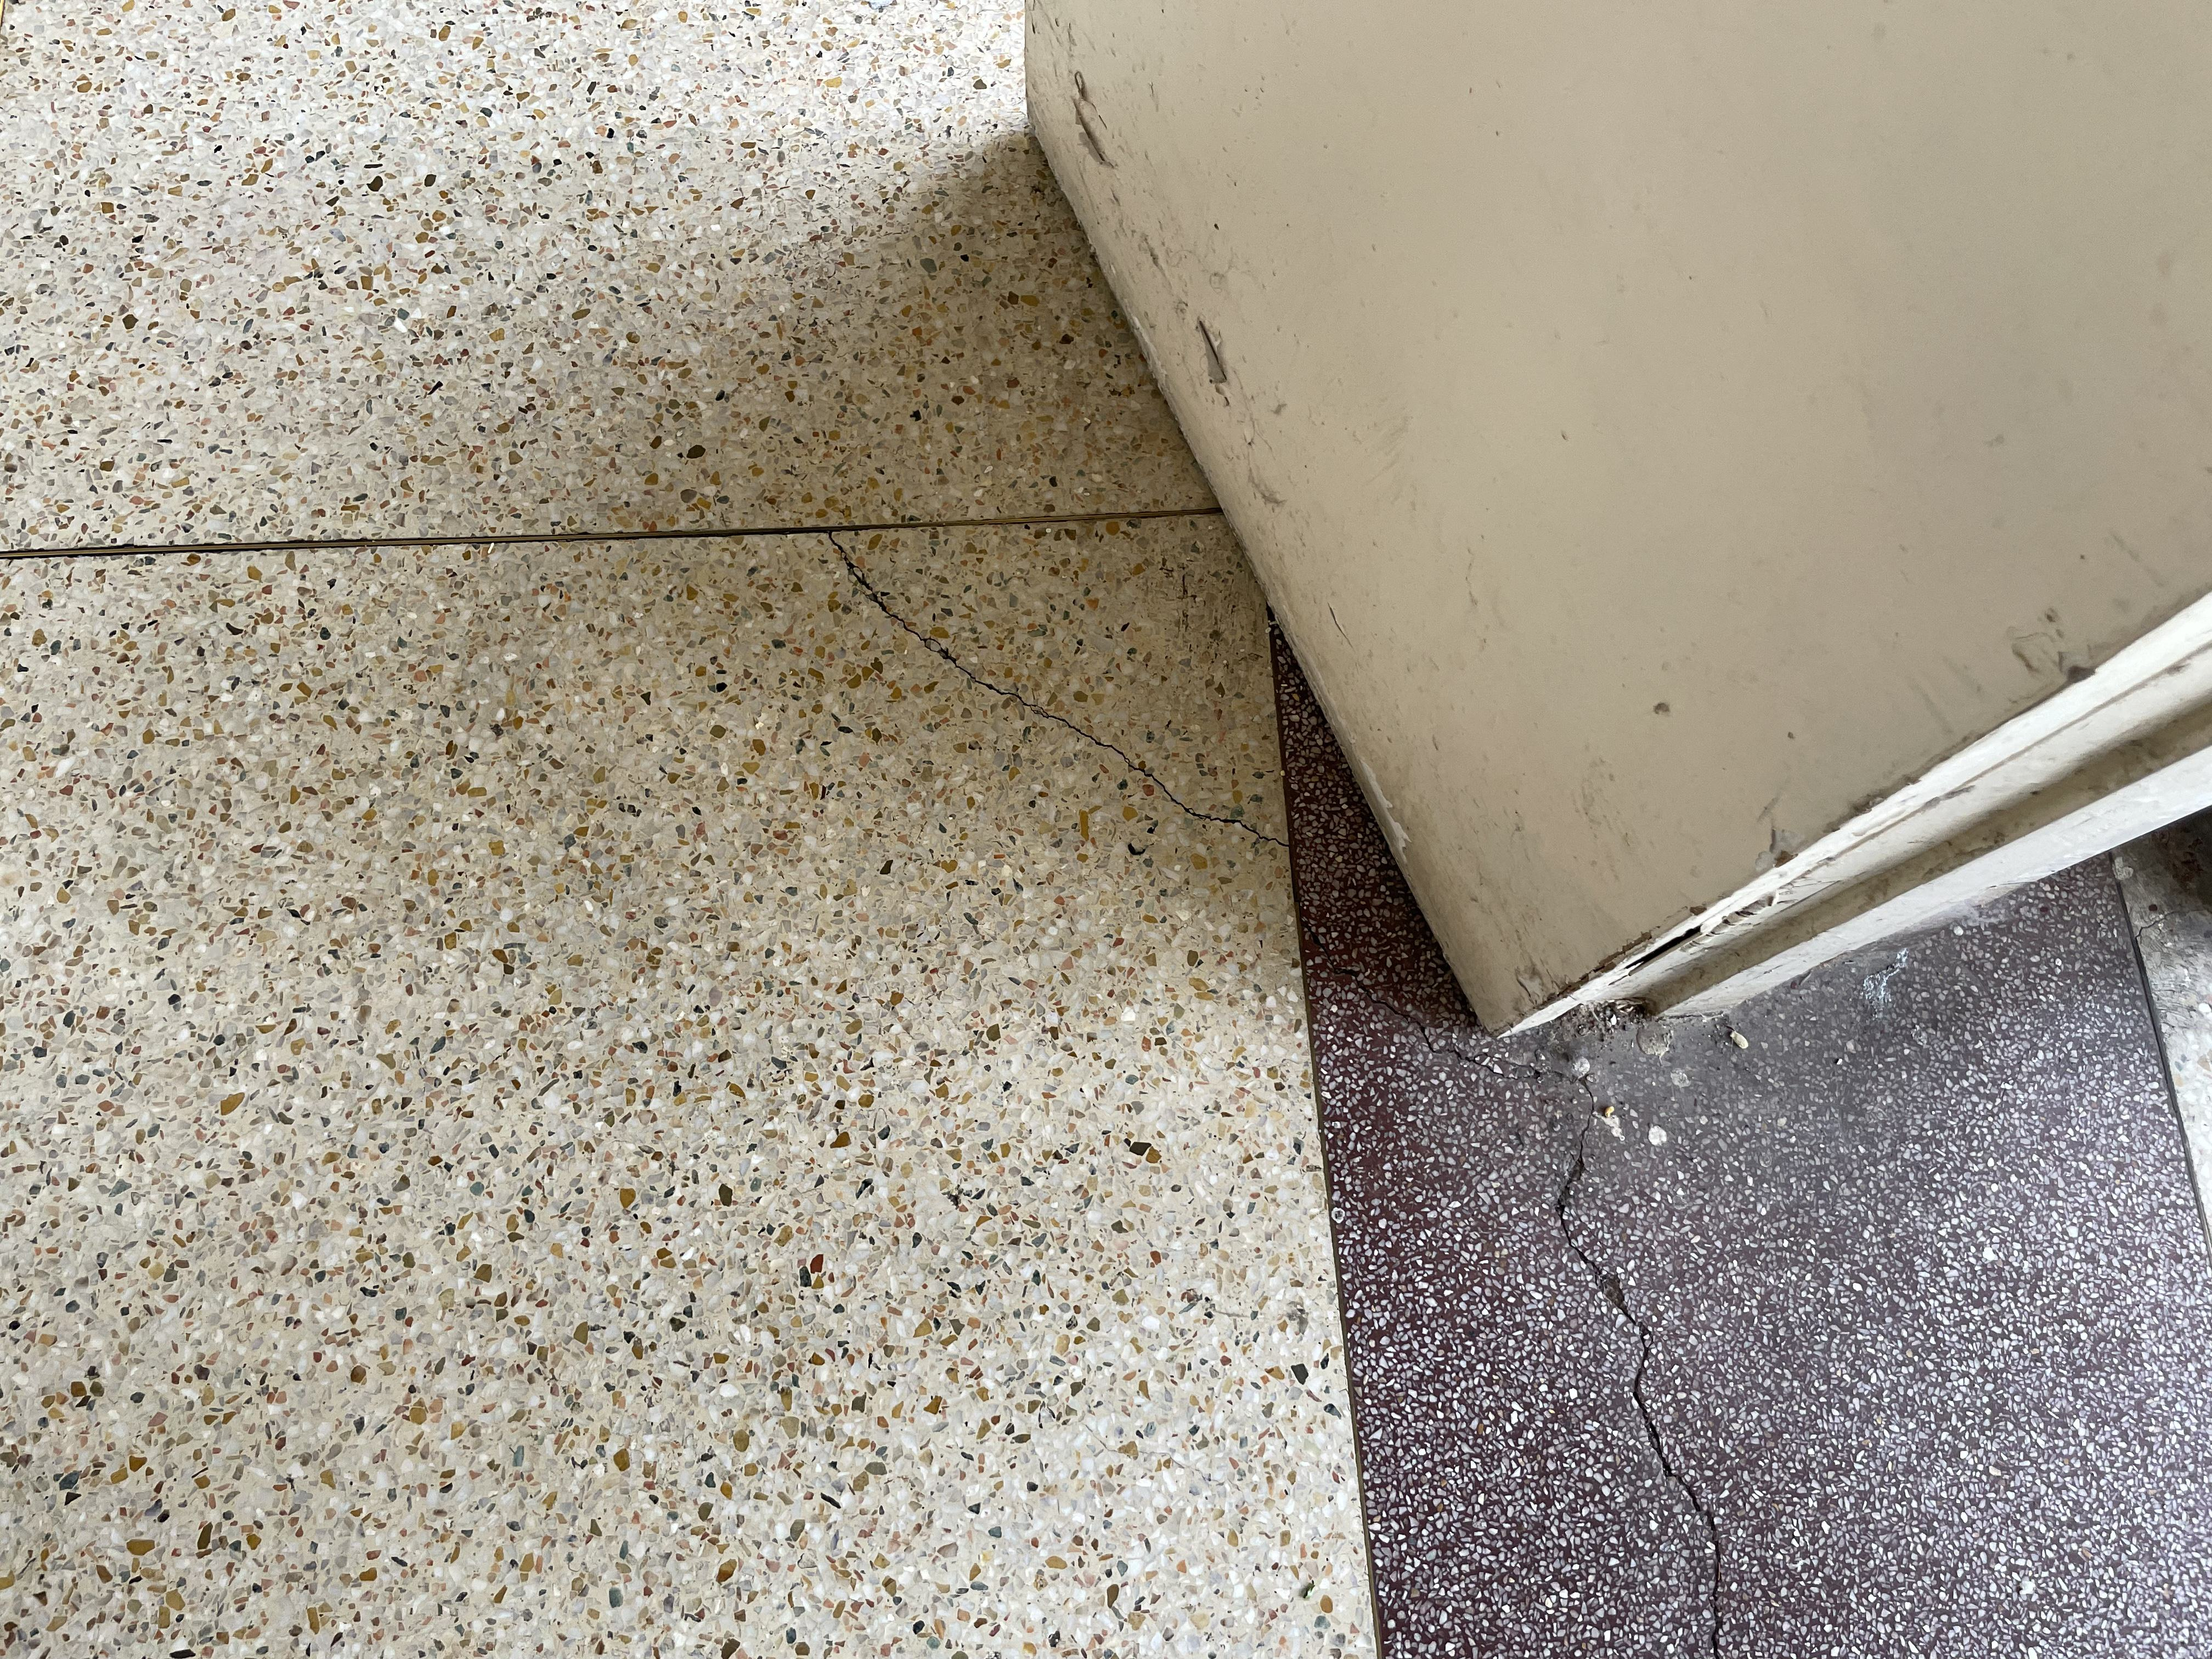Crack: (1353, 985, 1726, 1659), (827, 530, 1291, 849)
